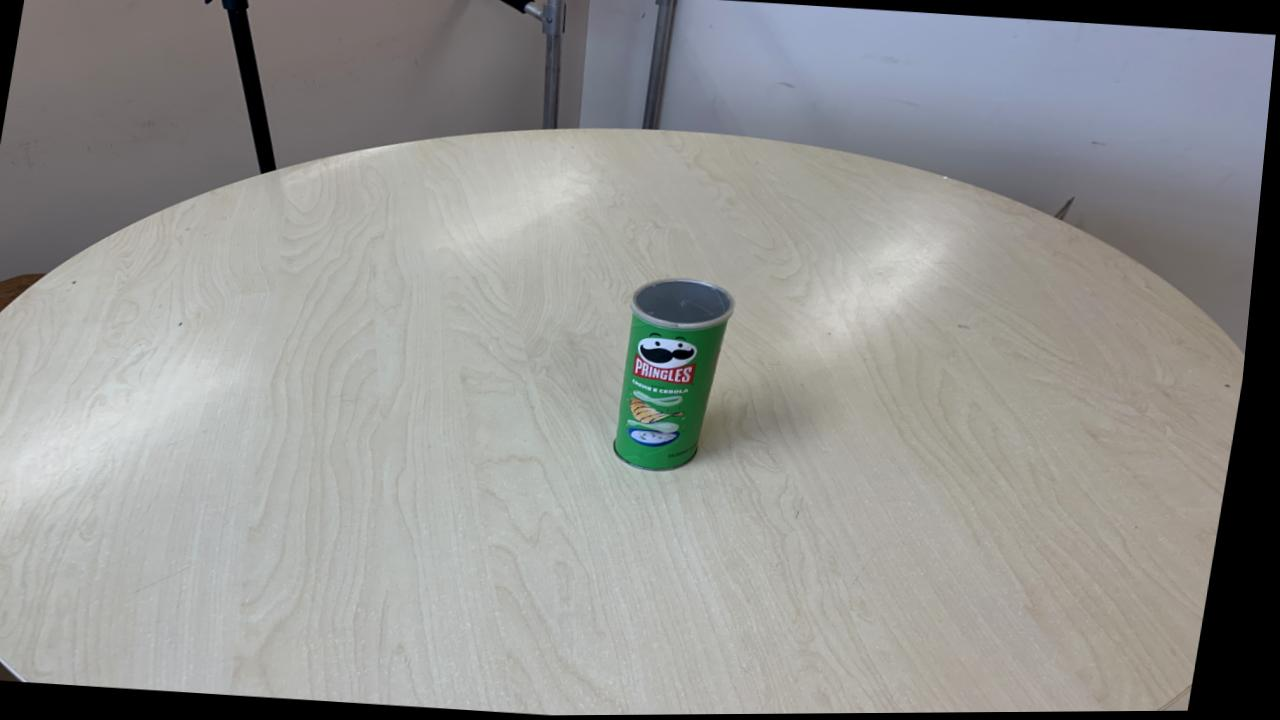Pringles-Snacks: (617, 282, 738, 474)
